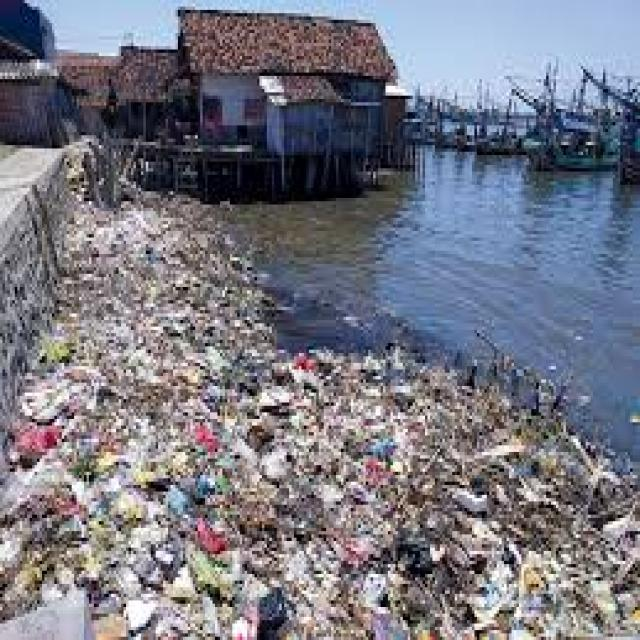heap: (61, 351, 595, 634)
